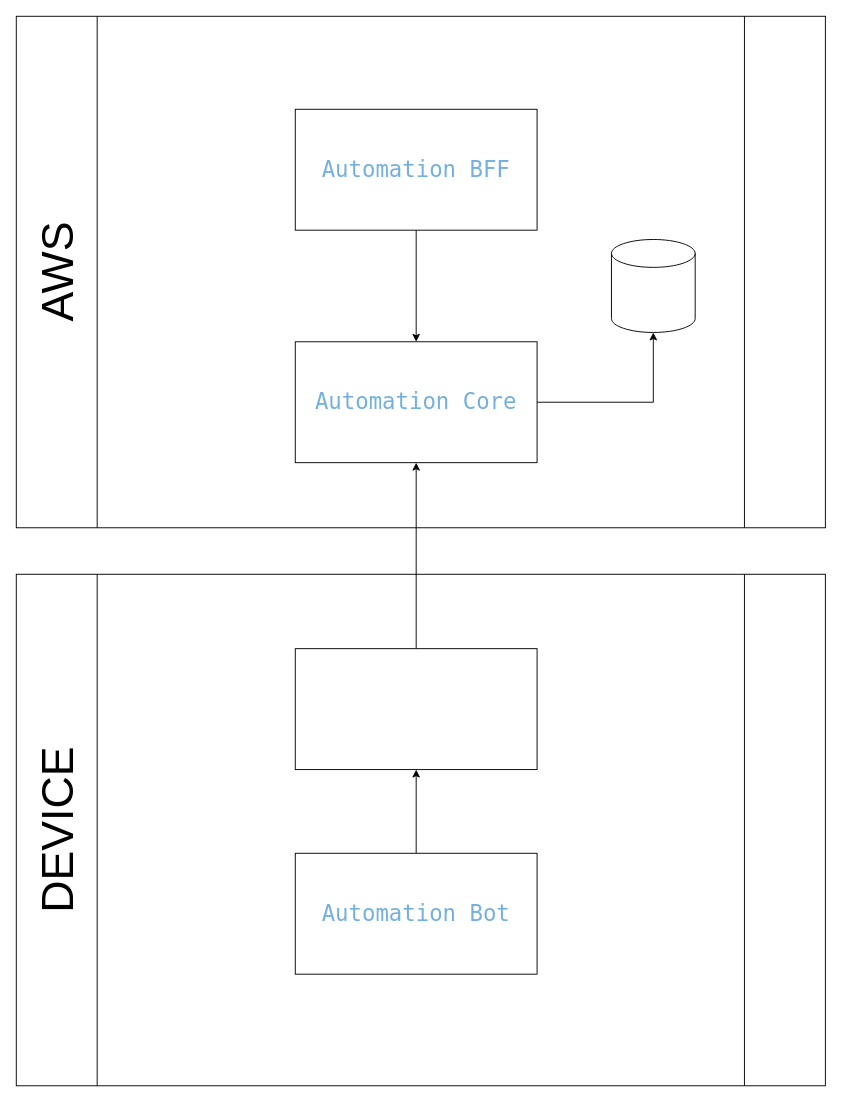
The diagram is 842 pixels wide and 1102 high, and some of its shapes have lost their labels. The box of each missing label's shape, as (x1, y1, x2, y2) in pixels:
Automation OCR: (294, 648, 537, 770)
Postgres: (611, 239, 695, 332)
